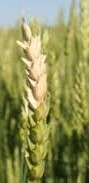Wheat scab: (17, 23, 50, 180)
